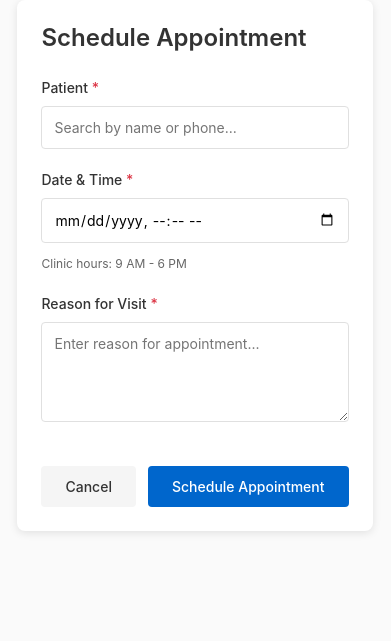
it: ScheduleAppointmentForm › Patient Selection › should clear patient error when patient selected
// Try to submit without selecting patient
Click the button "Schedule Appointment" at (248, 486), box x1=148 y1=466 x2=349 y2=507
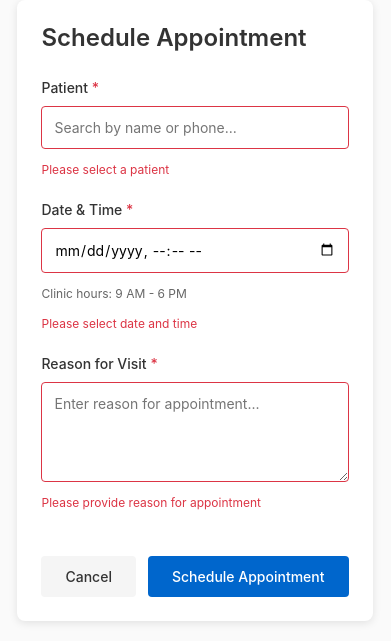
Now the text "Please select a patient" is shown, box x1=42 y1=162 x2=169 y2=177
// Now search and select
Type "John" into the field with placeholder "Search by name or phone..." at (195, 127), box x1=42 y1=106 x2=349 y2=149
Wait 300 ms
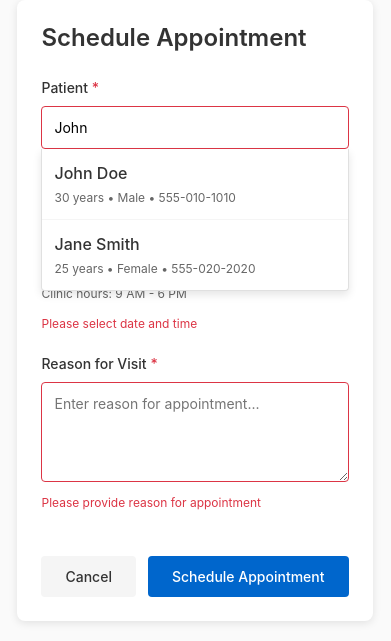
Now the text "John Doe" is shown
Click the text "John Doe" at (91, 173), box x1=54 y1=163 x2=128 y2=183
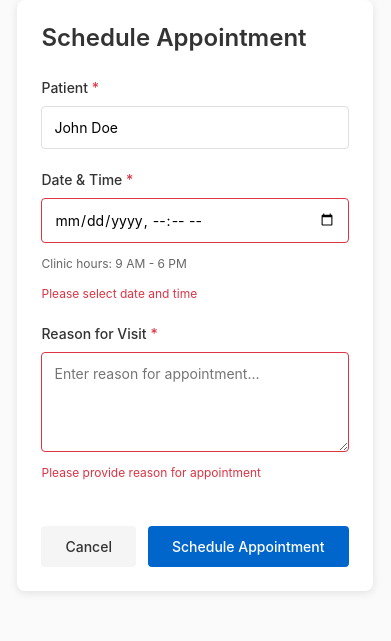
Now the text "Please select a patient" is gone
